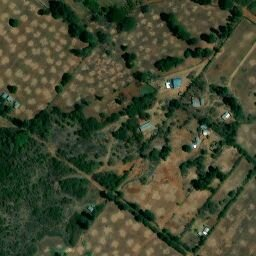tree: (119, 16, 137, 32), (12, 130, 27, 146), (126, 118, 140, 132), (173, 25, 186, 36), (206, 32, 217, 44), (168, 20, 180, 31), (61, 71, 71, 84), (169, 99, 180, 110), (201, 48, 213, 58), (9, 17, 20, 27), (193, 47, 203, 58), (81, 47, 92, 57), (166, 13, 177, 23), (187, 37, 199, 46), (8, 85, 18, 94), (124, 60, 134, 69), (141, 5, 151, 14), (55, 85, 64, 94), (181, 32, 191, 40), (184, 144, 192, 153), (139, 176, 147, 185), (98, 112, 106, 119)
